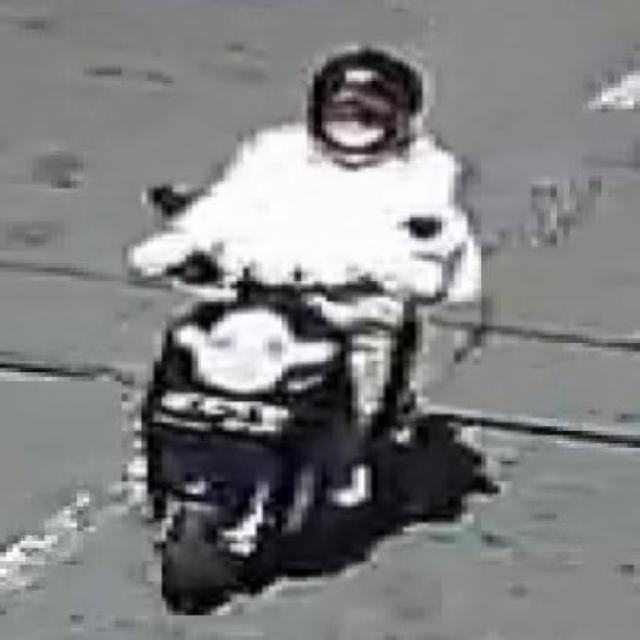helmet: (277, 41, 430, 167)
motorcycle: (92, 24, 534, 632)
